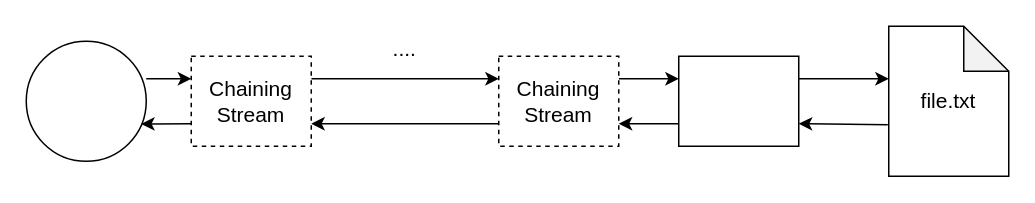
This 1035x203 diagram has some shape labels left out. Each missing label, with the box of its shape:
Connection Stream: (677, 55, 799, 146)
Object: (25, 40, 146, 161)
